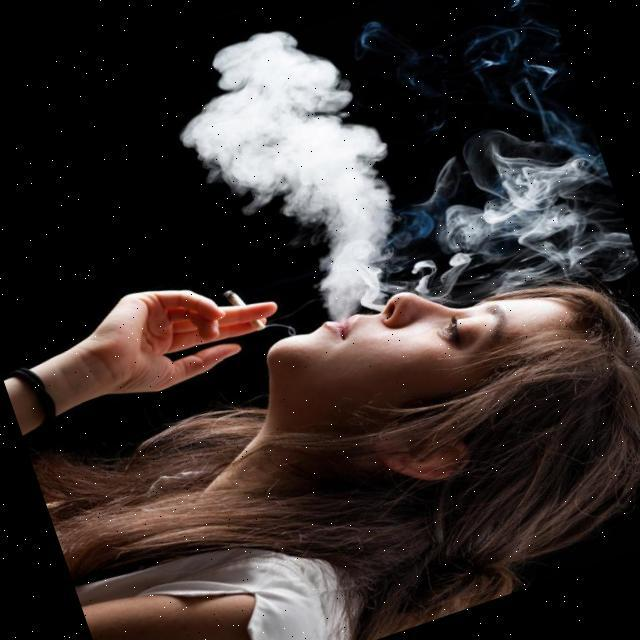cigarette: (220, 284, 247, 314)
